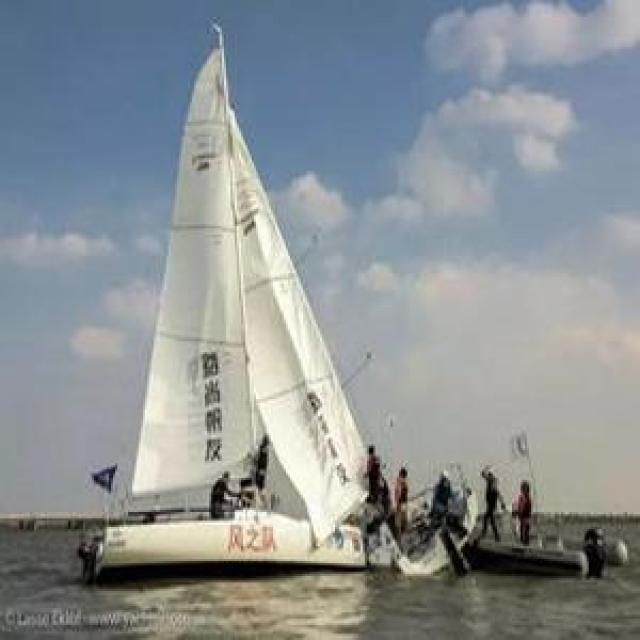sailboat: (81, 42, 434, 588)
